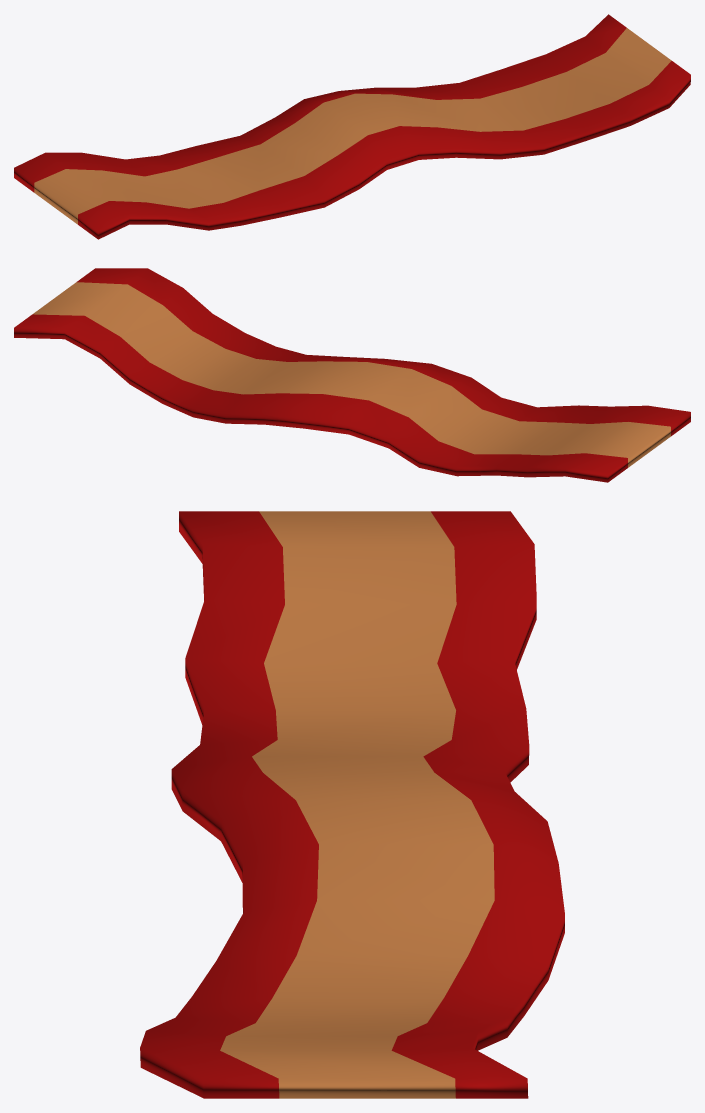
The model's file is bacon.fbx.
3 views of the same model, one above another, from view 1: azimuth 30°, elevation 25°; view 2: azimuth 150°, elevation 25°; view 3: azimuth 270°, elevation 25° (orthographic). The views are drawn at different scales.
Parts seen in each view (by area): view 1: bacon; view 2: bacon; view 3: bacon.
Part boxes in pixels (x1,y1,x2,y2): bacon: (14,14,690,239); bacon: (14,268,690,482); bacon: (140,511,564,1098).
Bounding box in the file's own units: 41.32 × 2.8 × 12.89.
1 material, 1 textured.
